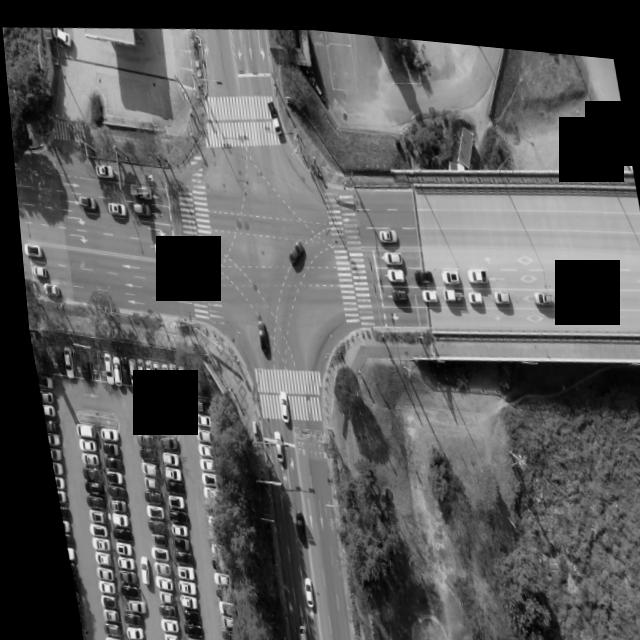car: (385, 278, 406, 297)
small_truck: (265, 92, 280, 130), (125, 179, 149, 198), (438, 277, 460, 295), (128, 552, 141, 580)
